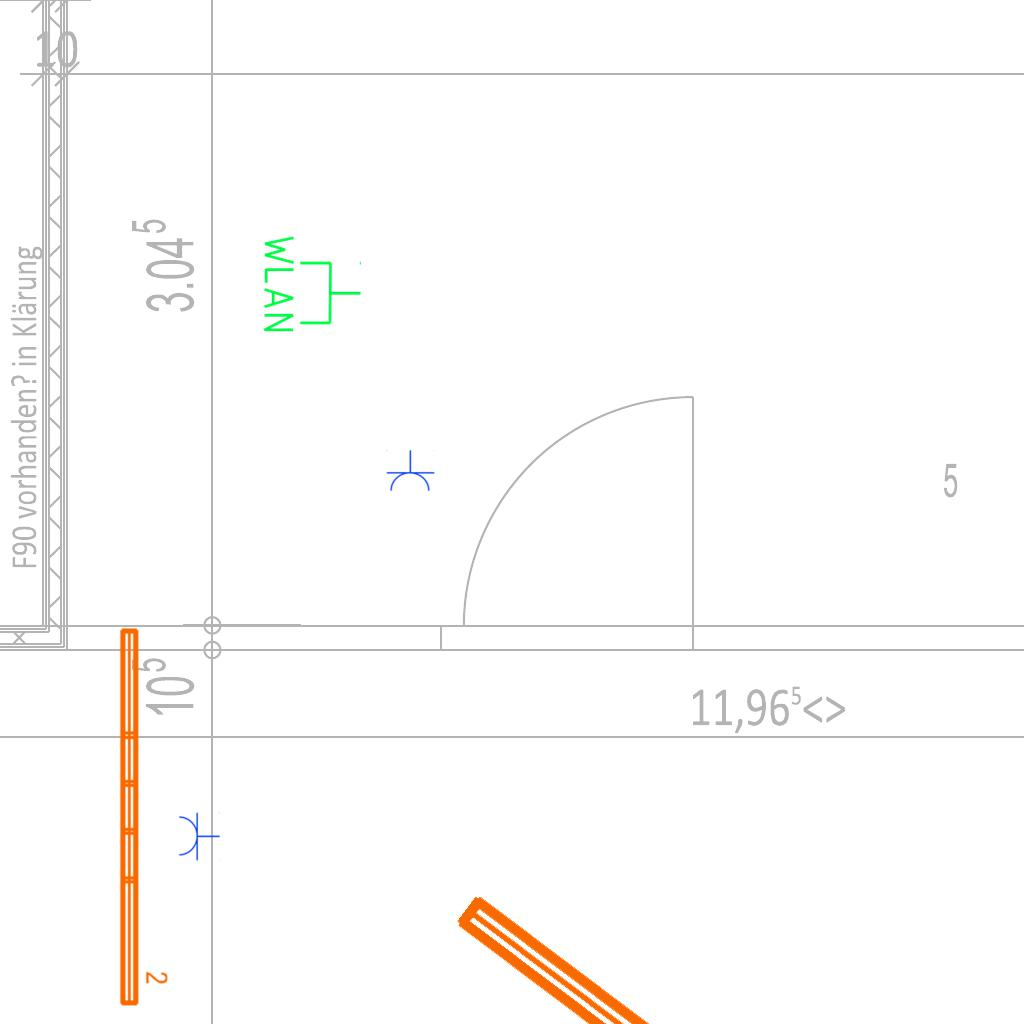Ambulanz_Pendelleuchte_LED: (439, 837, 1024, 1024), (114, 623, 170, 1010)
Schukosteckdose_einfach: (385, 450, 435, 493), (177, 811, 220, 861)
WLAN: (260, 231, 364, 336)
